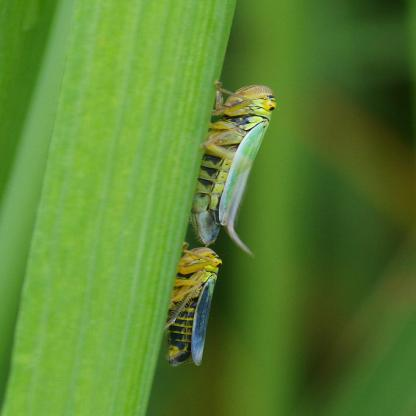Green-Leafhopper: (191, 75, 289, 250), (158, 240, 230, 374)
